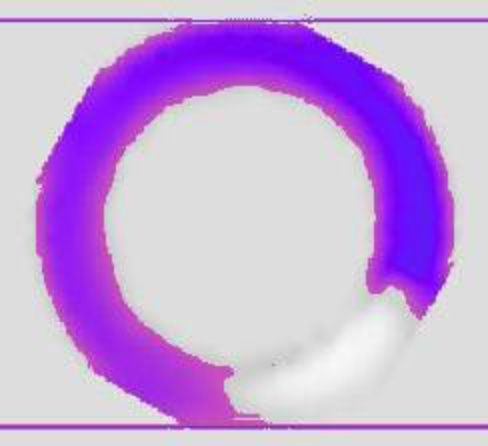ProgressBar: (1, 1, 487, 445)
